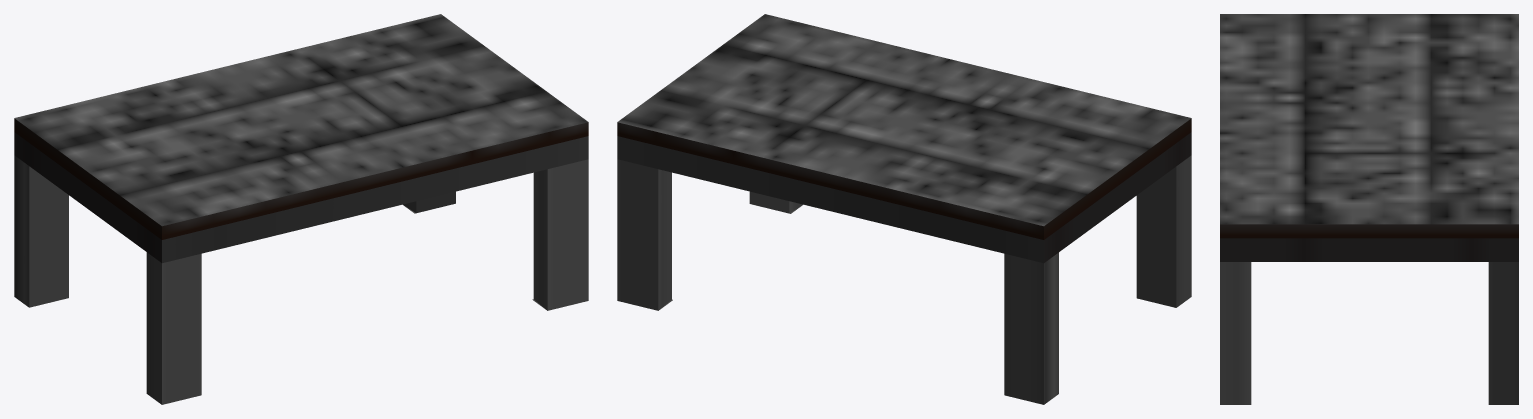
Rendered from table_890x03.obj.
The picture shows the model from 3 angles, left to right: view 1: azimuth 30°, elevation 25°; view 2: azimuth 150°, elevation 25°; view 3: azimuth 270°, elevation 25°; orthographic projection.
Visible parts, largest first — view 1: Table_890x3; view 2: Table_890x3; view 3: Table_890x3.
Boxes of the visible parts, x1,y1,x2,y2 form: Table_890x3: [14, 14, 588, 404]; Table_890x3: [617, 14, 1191, 404]; Table_890x3: [1220, 14, 1518, 404].
Bounding box in the file's own units: 5 × 2 × 3.
